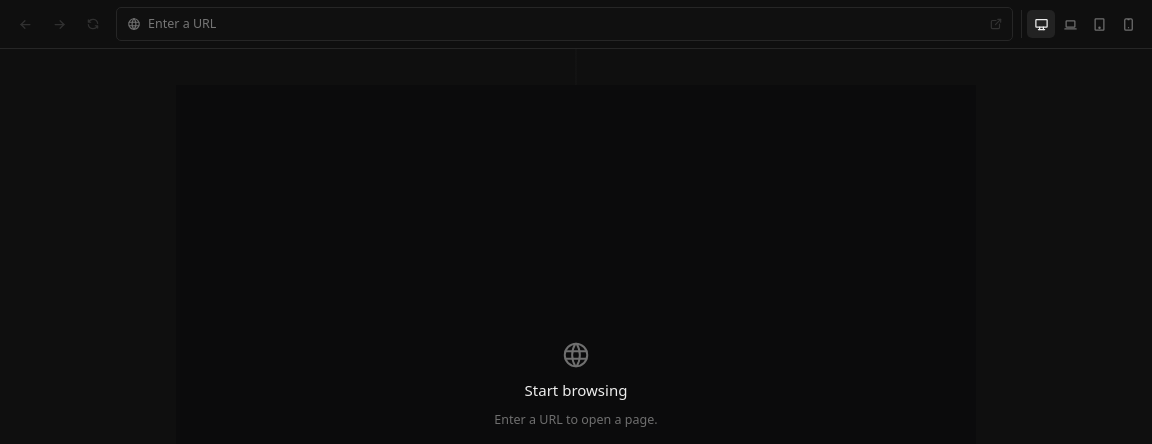
Test: WorkspaceBrowser › shows invalid input instead of sending privileged URLs to Chromium
Type "file:///private/data" into the field named "Browser address".
click(562, 24); type("file:///private/data")  # box [148, 14, 975, 34]
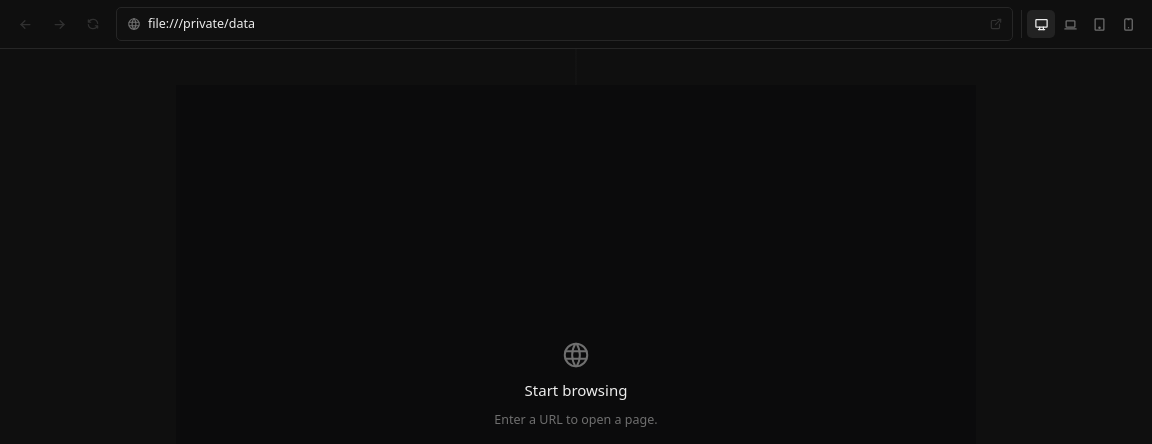
Submit the form named "Browser address", box [116, 7, 1013, 41]
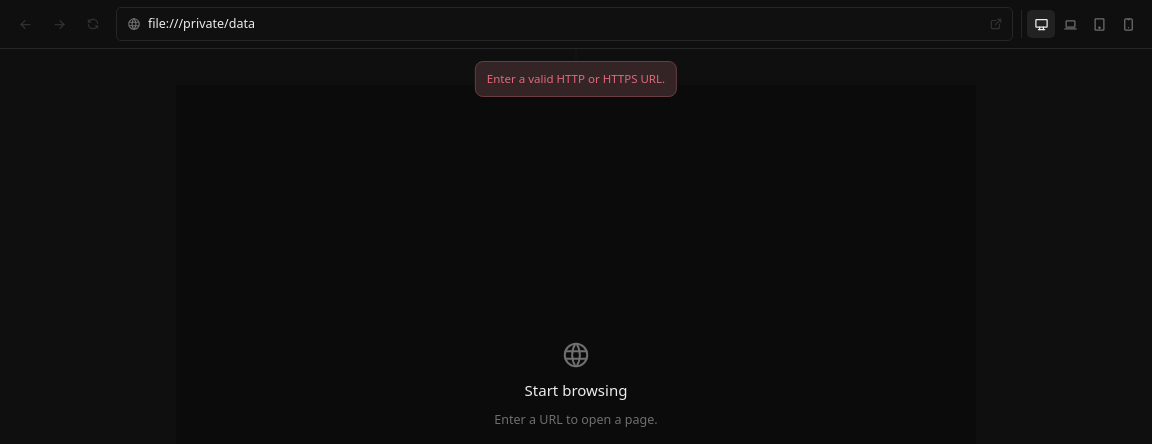
Now the message reads "Enter a valid HTTP or HTTPS URL.", box [487, 71, 665, 86]
